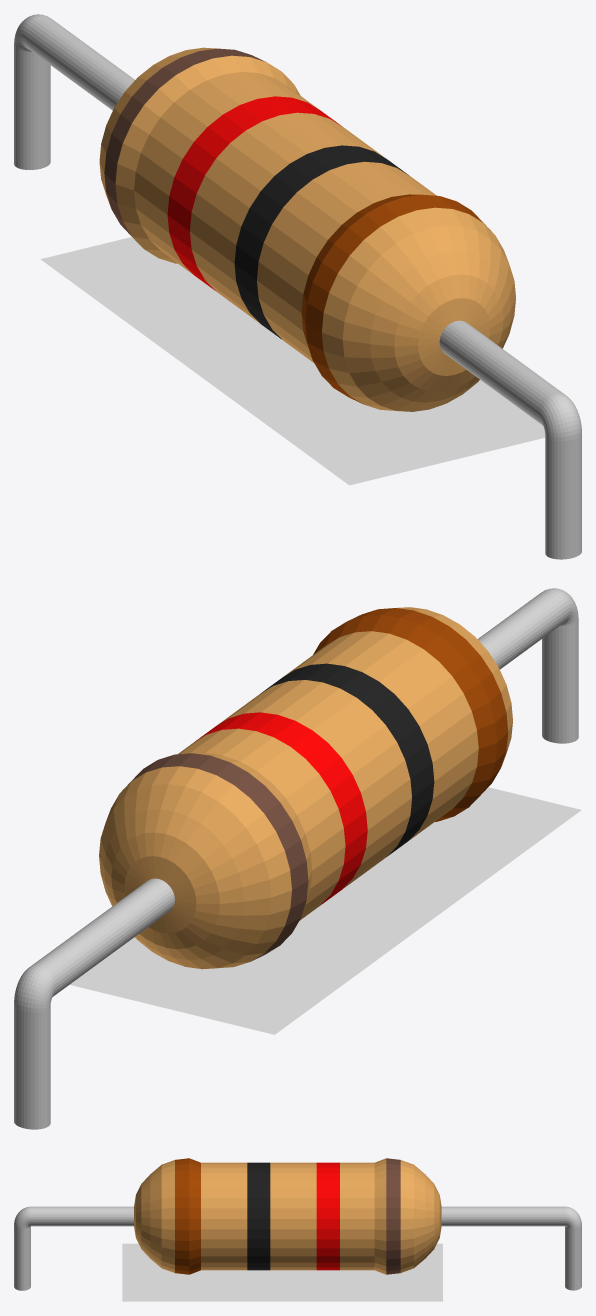
3 renders of one model, top to bottom at view 1: azimuth 30°, elevation 25°; view 2: azimuth 150°, elevation 25°; view 3: azimuth 270°, elevation 25°, orthographic. The views are drawn at different scales.
Visible parts, largest first — view 1: R_5, R_5_plane; view 2: R_5, R_5_plane; view 3: R_5, R_5_plane.
Boxes of the visible parts, bbox=[...] form: R_5: bbox=[14, 14, 581, 559]; R_5_plane: bbox=[40, 237, 545, 485]; R_5: bbox=[14, 588, 578, 1129]; R_5_plane: bbox=[70, 787, 581, 1034]; R_5: bbox=[14, 1158, 581, 1290]; R_5_plane: bbox=[122, 1243, 442, 1301].
Size of the model in its own units: 0.0161 by 0.0159 by 0.0664.
